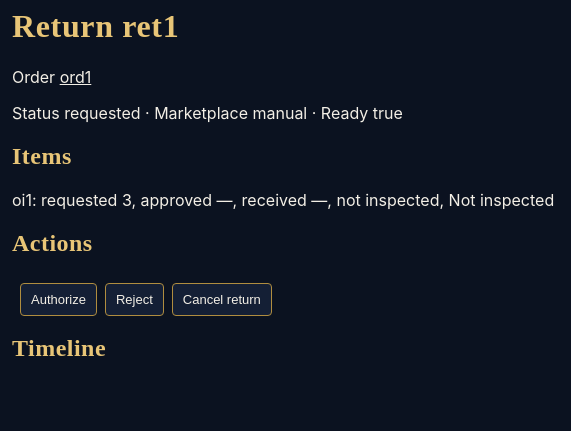
it: Return detail lifecycle actions (Sprint 56B) › displays a backend validation error
Click the button "Authorize" at (58, 299), box [20,282,97,316]
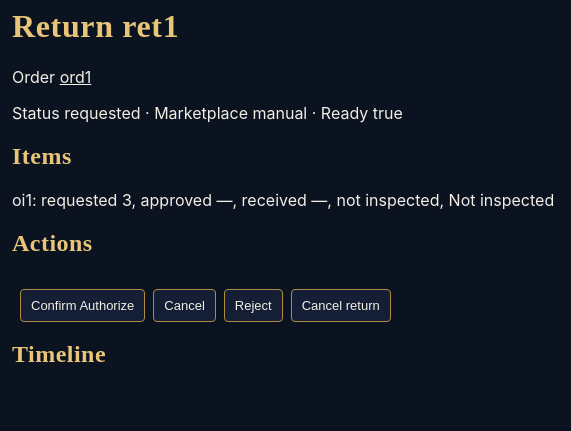
Click the button "Confirm Authorize" at (83, 305), box [20,288,145,322]
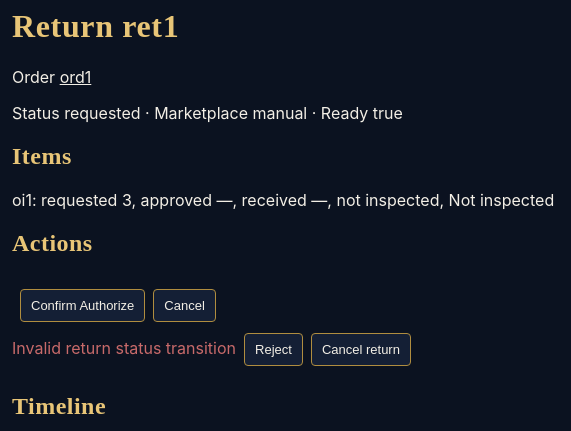
Expected: the message reads "Invalid return status transition", [12,338,236,358]
